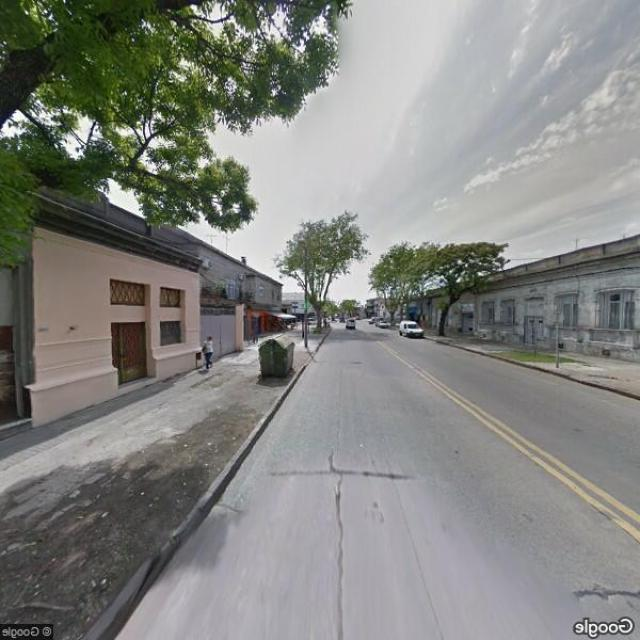garbage container: (252, 332, 298, 389)
